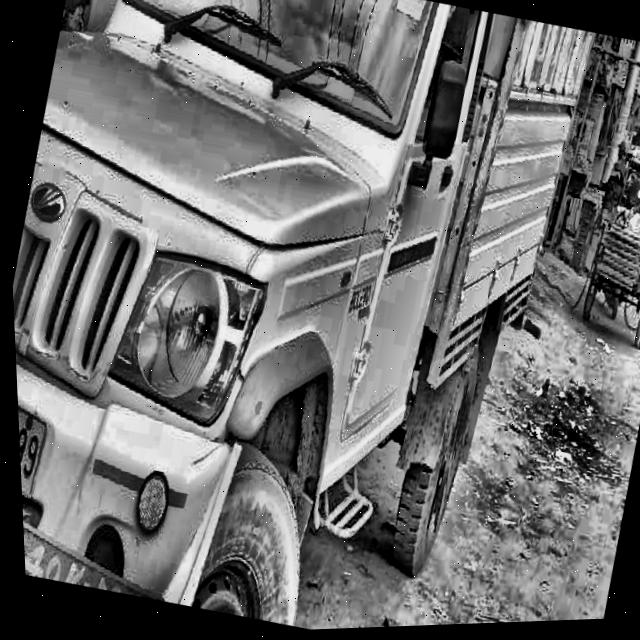light_vehicle: (0, 0, 616, 640)
